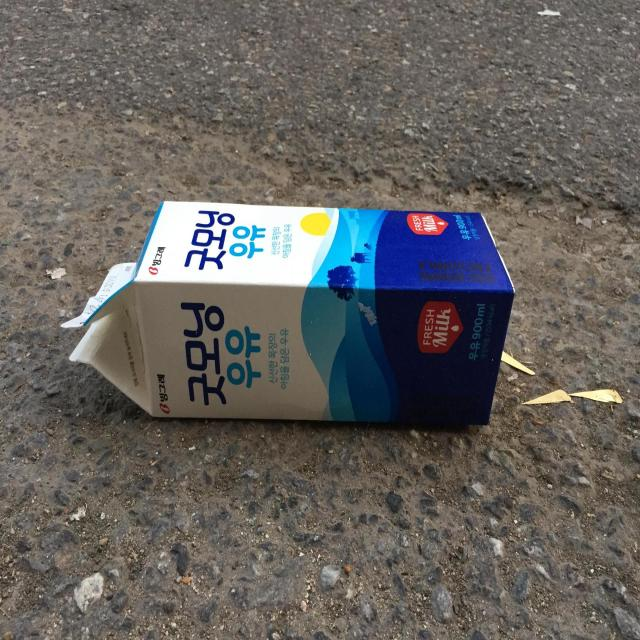paperpack: (61, 201, 515, 425)
